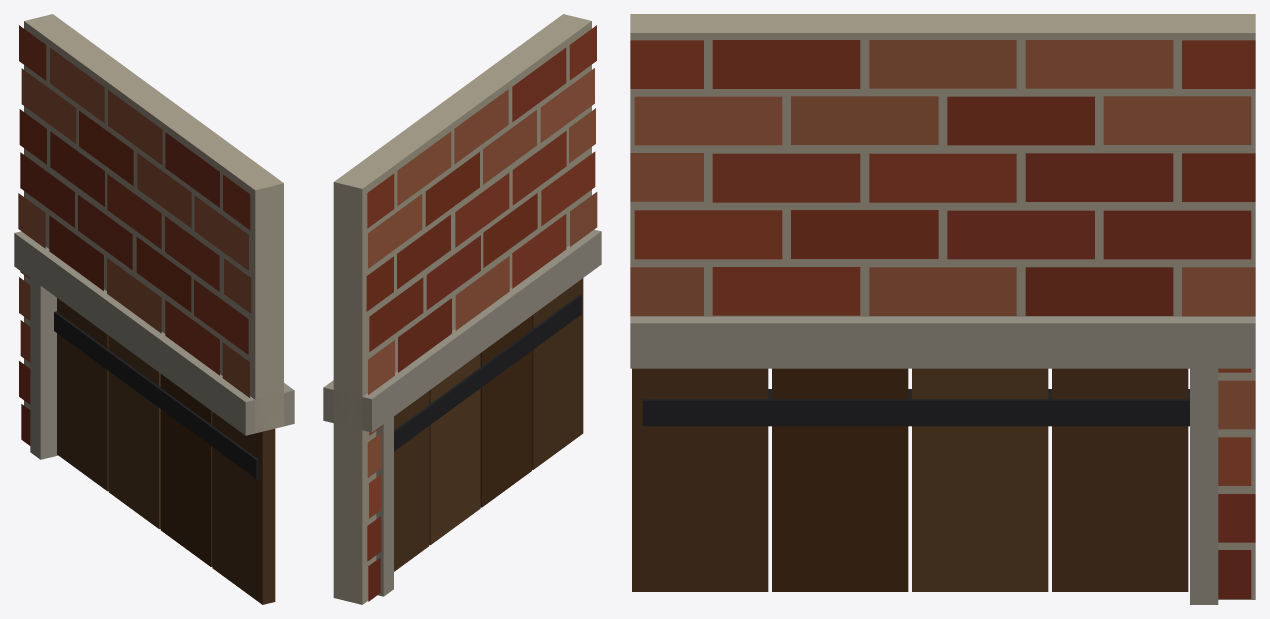
The model's file is wall-brick-door-shut-high-l.glb.
3 renders of one model, left to right at view 1: azimuth 30°, elevation 25°; view 2: azimuth 150°, elevation 25°; view 3: azimuth 270°, elevation 25°, orthographic. The views are drawn at different scales.
Parts seen in each view (by area): view 1: wall-brick-door-shut-high-l; view 2: wall-brick-door-shut-high-l; view 3: wall-brick-door-shut-high-l.
Boxes of the visible parts, <box> form: wall-brick-door-shut-high-l: <box>14,14,294,604</box>; wall-brick-door-shut-high-l: <box>323,14,601,604</box>; wall-brick-door-shut-high-l: <box>630,14,1255,604</box>.
Bounding box in the file's own units: 0.122 × 1 × 1.
